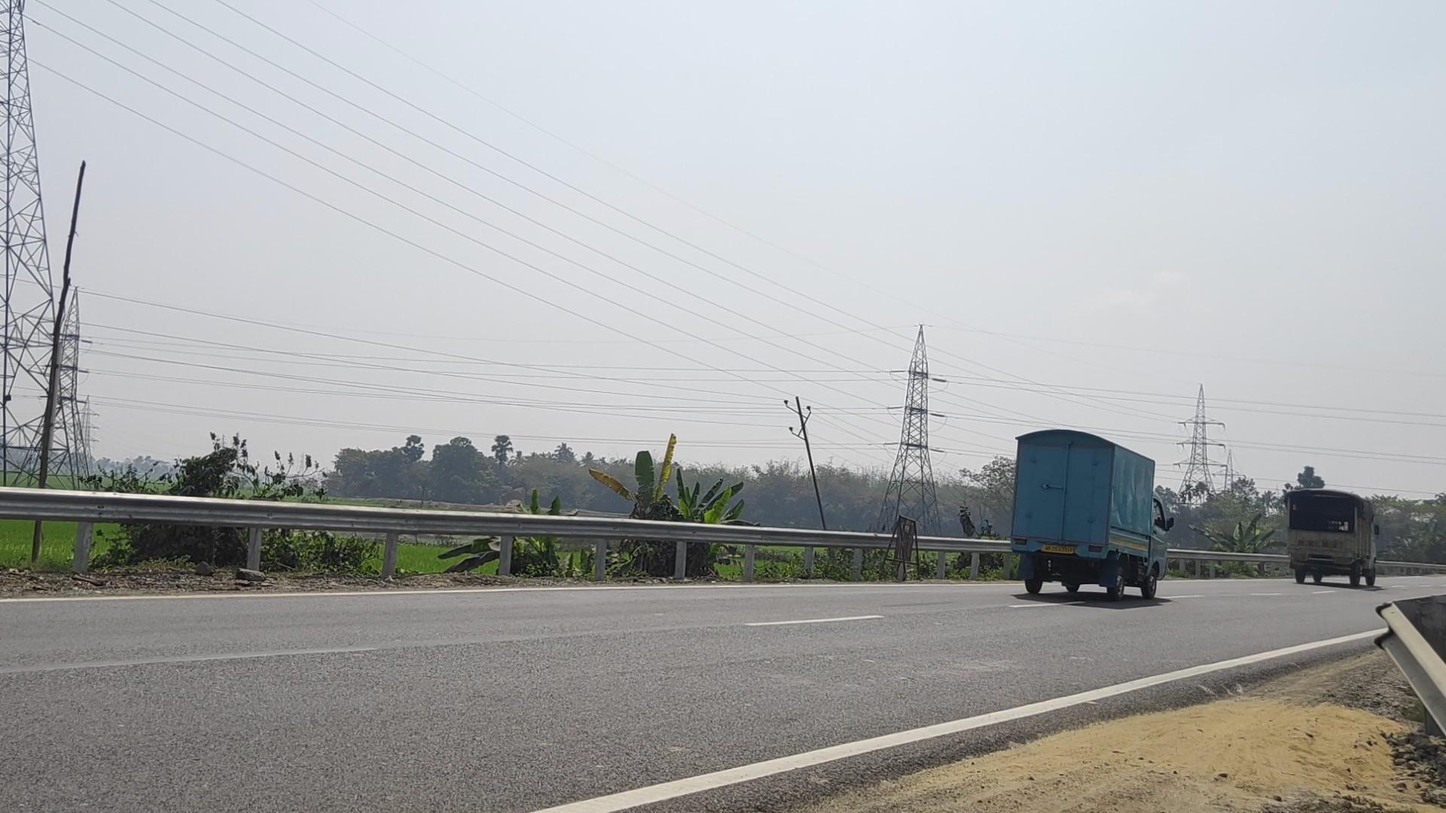truck: (1286, 488, 1380, 587)
van: (1011, 428, 1175, 603)
